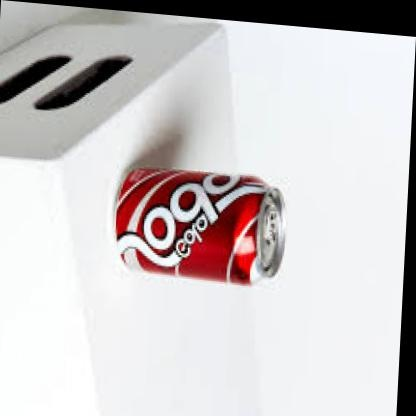trash: (116, 168, 284, 284)
